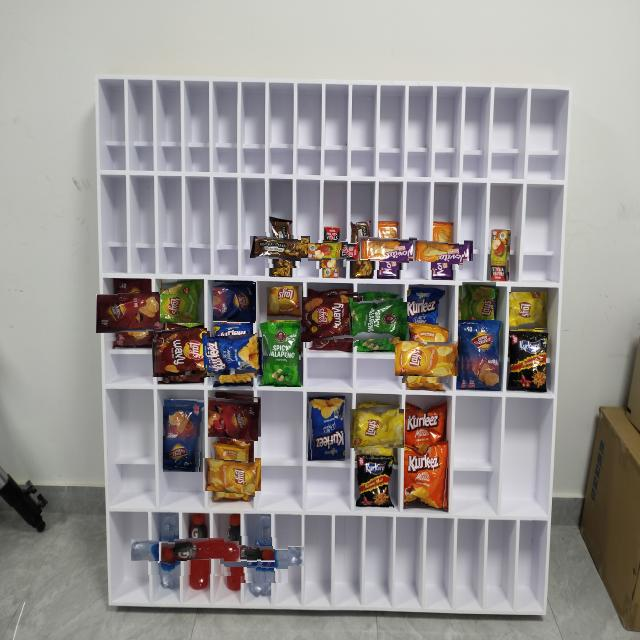Plastic: (302, 291, 358, 348), (163, 398, 204, 472), (104, 286, 159, 341), (458, 320, 499, 390), (235, 529, 288, 583), (154, 328, 207, 381), (404, 448, 449, 508), (353, 296, 404, 347), (174, 525, 224, 576), (263, 320, 301, 387), (207, 331, 257, 381), (144, 525, 194, 575), (402, 334, 452, 383), (307, 396, 345, 460), (211, 393, 258, 441), (210, 528, 257, 576), (510, 331, 546, 392), (354, 405, 400, 451), (208, 452, 255, 497), (356, 457, 394, 509), (160, 279, 204, 323), (213, 281, 255, 323), (260, 226, 301, 268), (368, 228, 409, 270), (405, 402, 446, 443), (422, 230, 464, 270), (407, 283, 445, 323), (460, 284, 499, 322), (509, 292, 547, 331), (350, 220, 374, 278), (266, 286, 302, 320), (315, 235, 349, 269), (490, 228, 510, 282)
